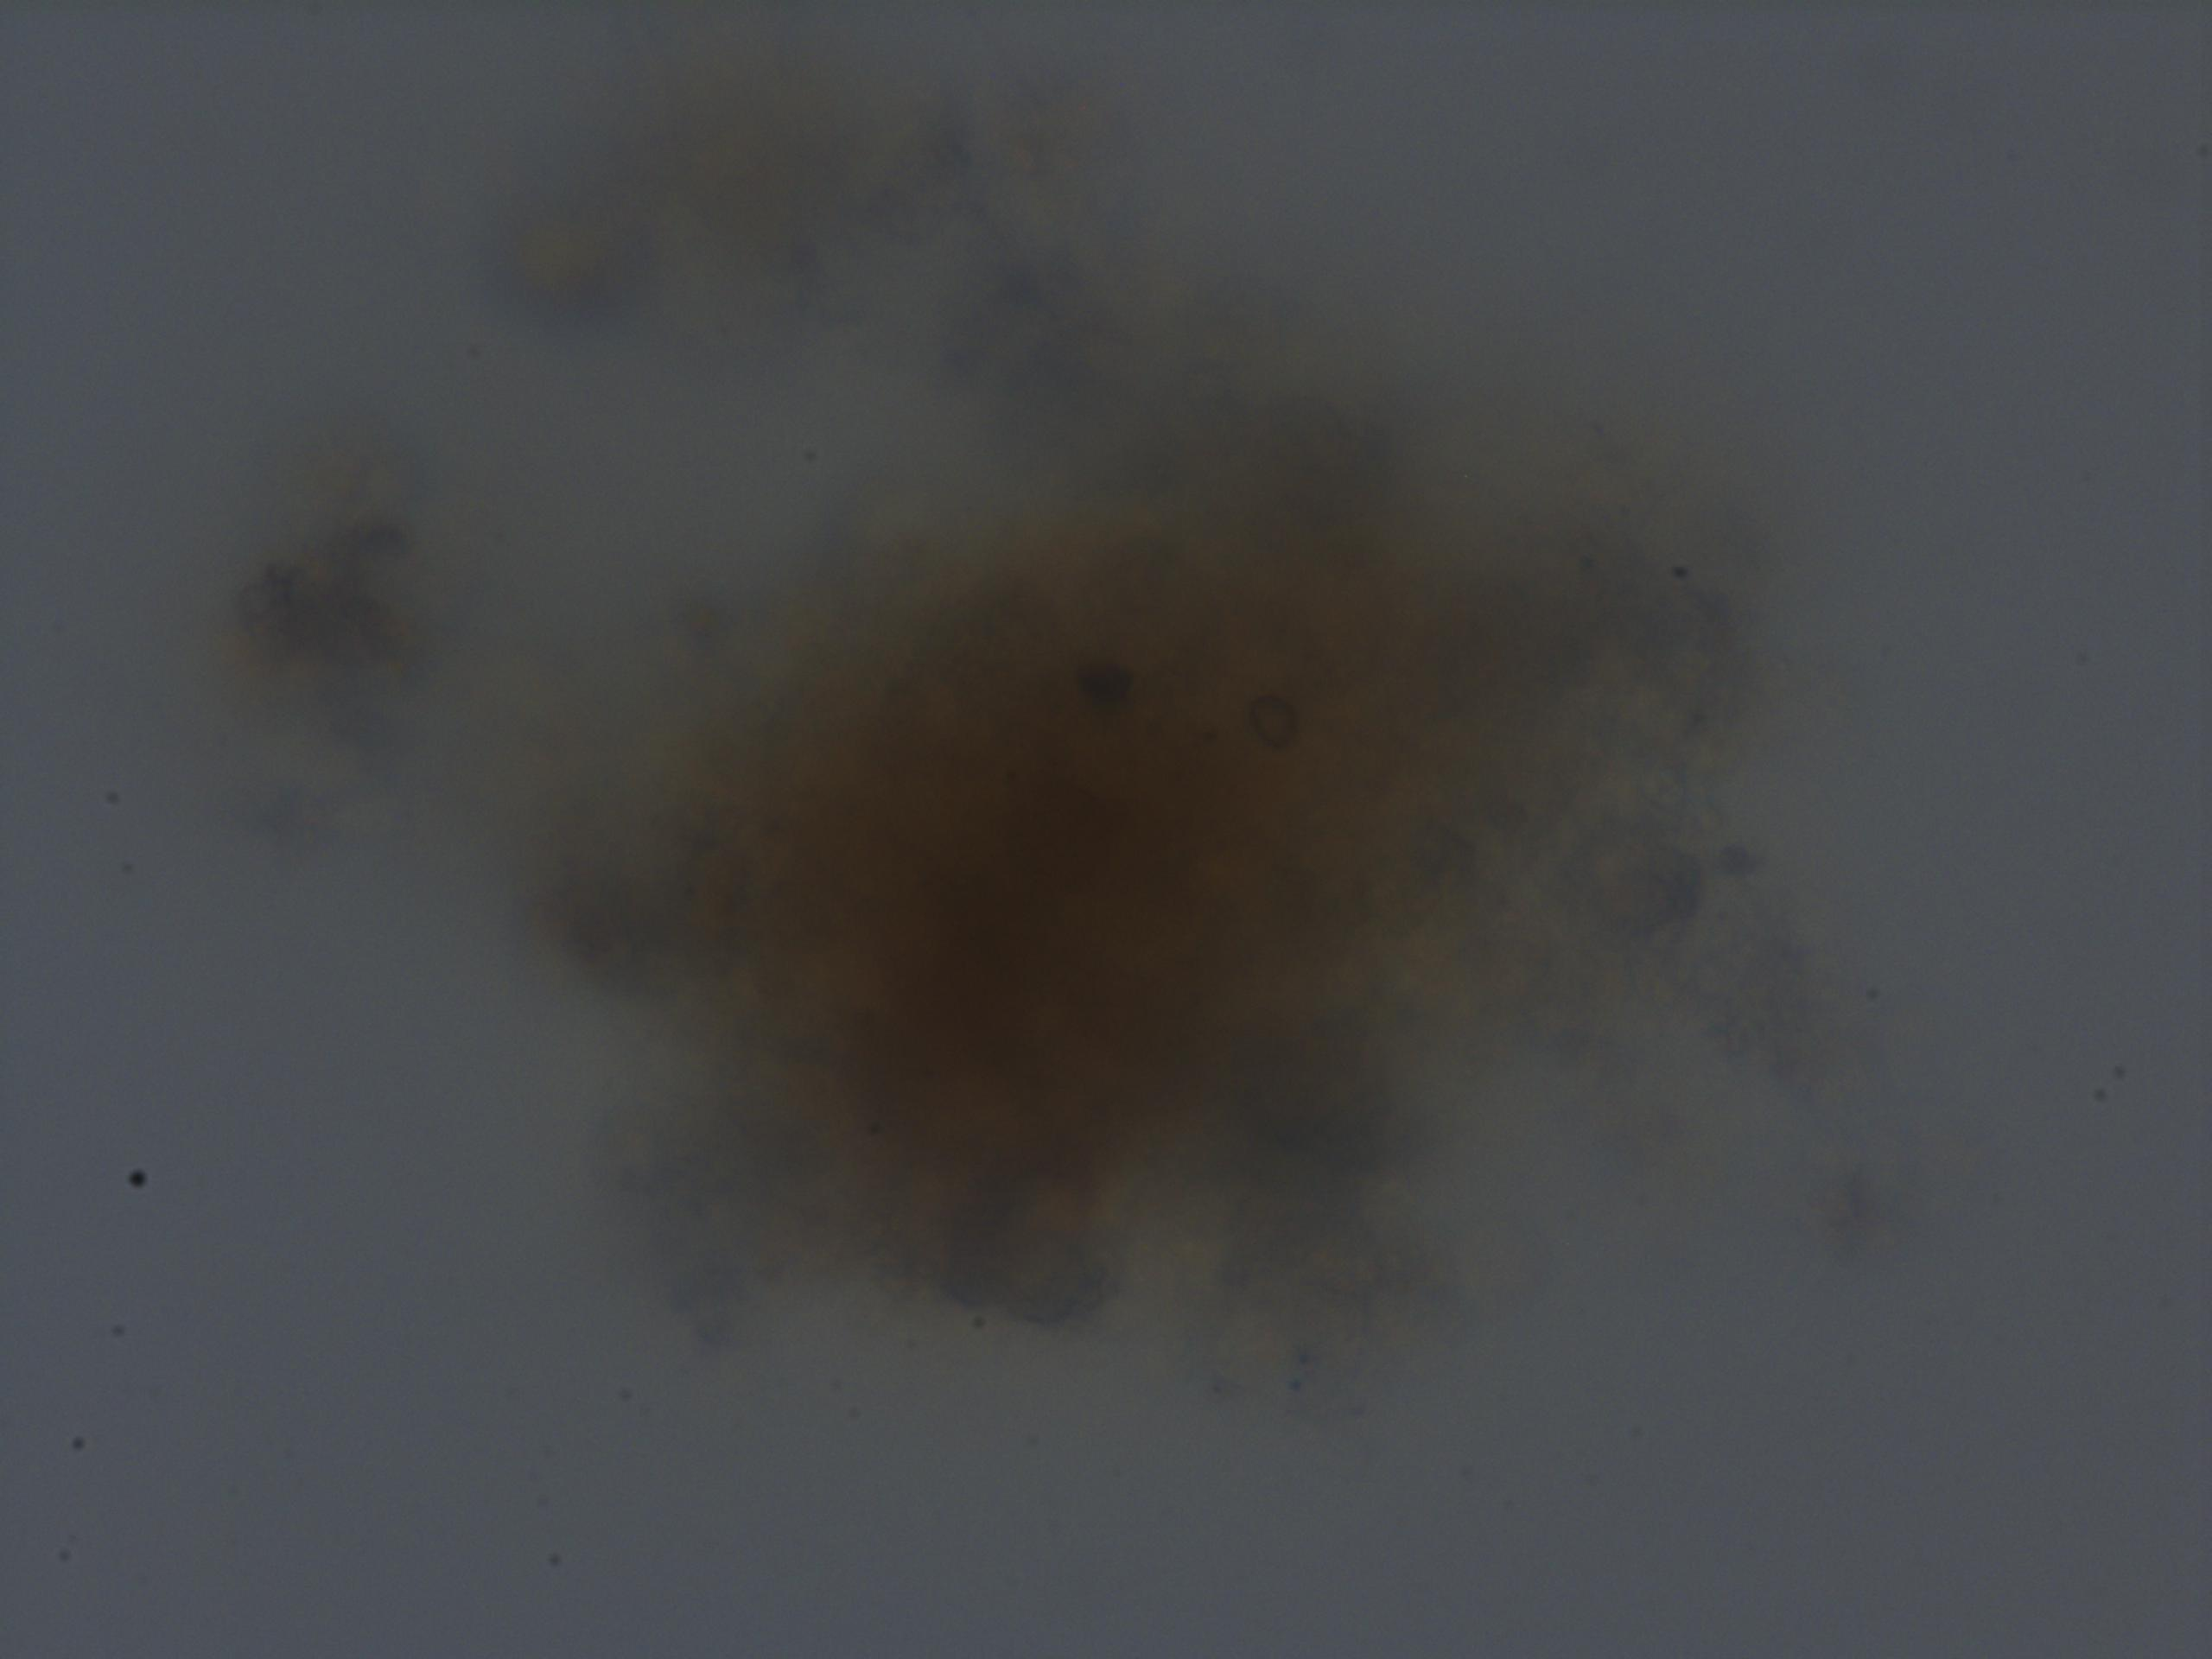spherical_floc: (542, 423, 1716, 1359)
